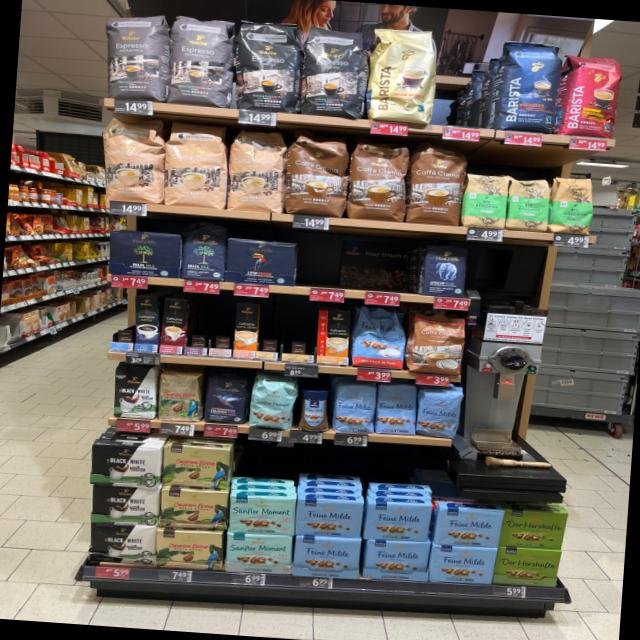AB Bohne: (420, 242, 469, 298)
Athiopien Bohne: (550, 174, 596, 236)
Athiopien Gemahlen: (506, 174, 552, 232), (464, 171, 509, 229)
BM Bohne: (180, 222, 228, 280)
BM Gemahlen: (106, 228, 182, 278)
BW Bohne: (111, 364, 158, 420)
BW Gemahlen: (88, 440, 162, 488), (90, 483, 160, 528), (88, 522, 157, 566)
Barista CB: (367, 27, 439, 124)
Barista Espresso: (494, 36, 564, 132)
Barista Kolumbien: (560, 48, 624, 137)
C Fino Bohne: (202, 375, 248, 424)
CC Mild: (96, 116, 166, 206), (164, 119, 230, 208), (225, 125, 288, 212)
CC Vollmundig: (408, 312, 464, 376)
CC Vollmundig 36 Pads: (284, 130, 350, 217), (346, 136, 411, 222), (408, 138, 468, 224)
Colombia BB Bohne: (156, 368, 204, 422)
Colombia BB Gemahlen: (161, 442, 232, 490), (158, 486, 229, 530), (153, 528, 224, 571)
Empty Shelf: (298, 238, 421, 294), (434, 31, 498, 128), (282, 304, 319, 356), (256, 303, 284, 353), (186, 298, 212, 348), (110, 291, 135, 342), (211, 299, 234, 348)
Espresso Aromatisch: (164, 12, 237, 106), (100, 10, 170, 100)
Espresso Kraftig: (232, 19, 304, 112), (300, 23, 370, 118)
FM 36 Pads: (350, 306, 408, 370)
FM Bohne: (332, 380, 378, 434), (416, 388, 464, 439), (376, 382, 418, 437)
FM Gemahlen: (292, 534, 362, 580), (435, 505, 503, 548), (295, 496, 364, 538), (364, 539, 430, 582), (430, 544, 496, 586), (364, 502, 432, 542)
FM Instant: (296, 384, 332, 434)
Herzhatfe Mundig: (501, 506, 569, 552), (495, 544, 562, 590)
LG Gemahlen: (225, 234, 298, 286)
SM Bohne: (250, 380, 296, 430)
SM Gemahlen: (223, 530, 292, 574), (228, 493, 296, 536)
Simo CCVollmundig: (316, 308, 351, 366)
Simo CCVollmundig bigpack: (232, 302, 258, 359)
Simo Es Caramel: (160, 296, 188, 354)
Simo Es Kraft: (131, 294, 161, 354)
